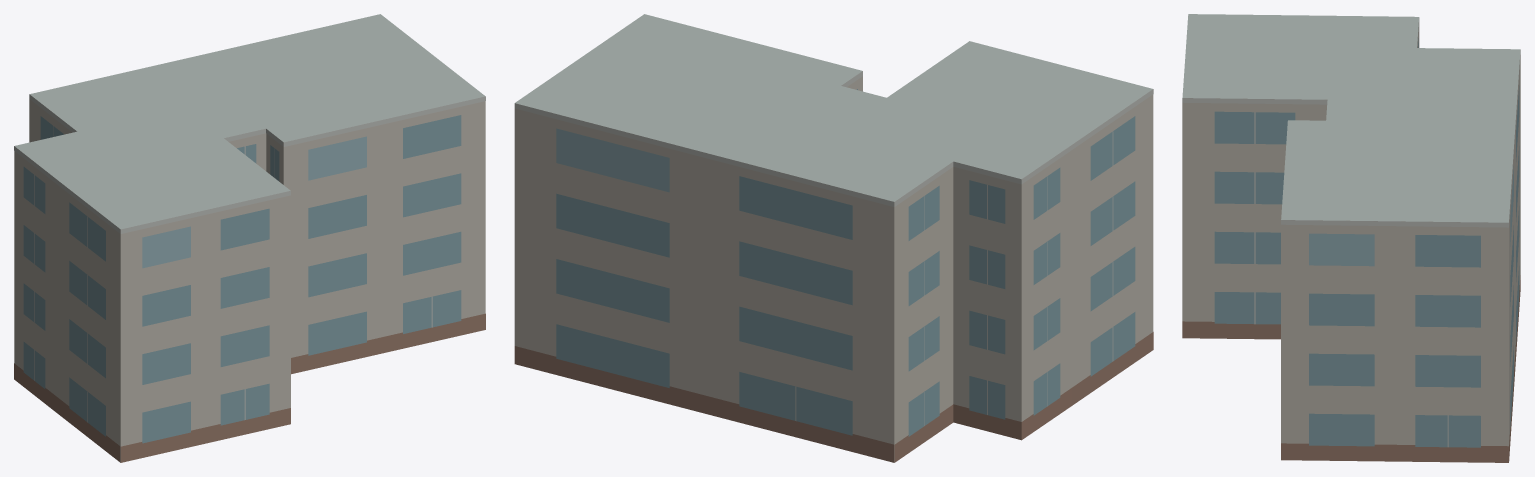
The model's file is residential-505e6140-80d8-45b1-8edf-44dd8e63407f.glb.
3 renders of one model, left to right at view 1: azimuth 30°, elevation 25°; view 2: azimuth 150°, elevation 25°; view 3: azimuth 270°, elevation 25°, orthographic. The views are drawn at different scales.
Visible parts, largest first — view 1: residential-505e6140-80d8-45b1-8edf-44dd8e63407f.tmp; view 2: residential-505e6140-80d8-45b1-8edf-44dd8e63407f.tmp; view 3: residential-505e6140-80d8-45b1-8edf-44dd8e63407f.tmp.
Part boxes in pixels (x1,y1,x2,y2): residential-505e6140-80d8-45b1-8edf-44dd8e63407f.tmp: (14,14,485,462); residential-505e6140-80d8-45b1-8edf-44dd8e63407f.tmp: (514,14,1153,462); residential-505e6140-80d8-45b1-8edf-44dd8e63407f.tmp: (1182,14,1520,462).
Size of the model in its own units: 22.74 by 12.2 by 15.57.
